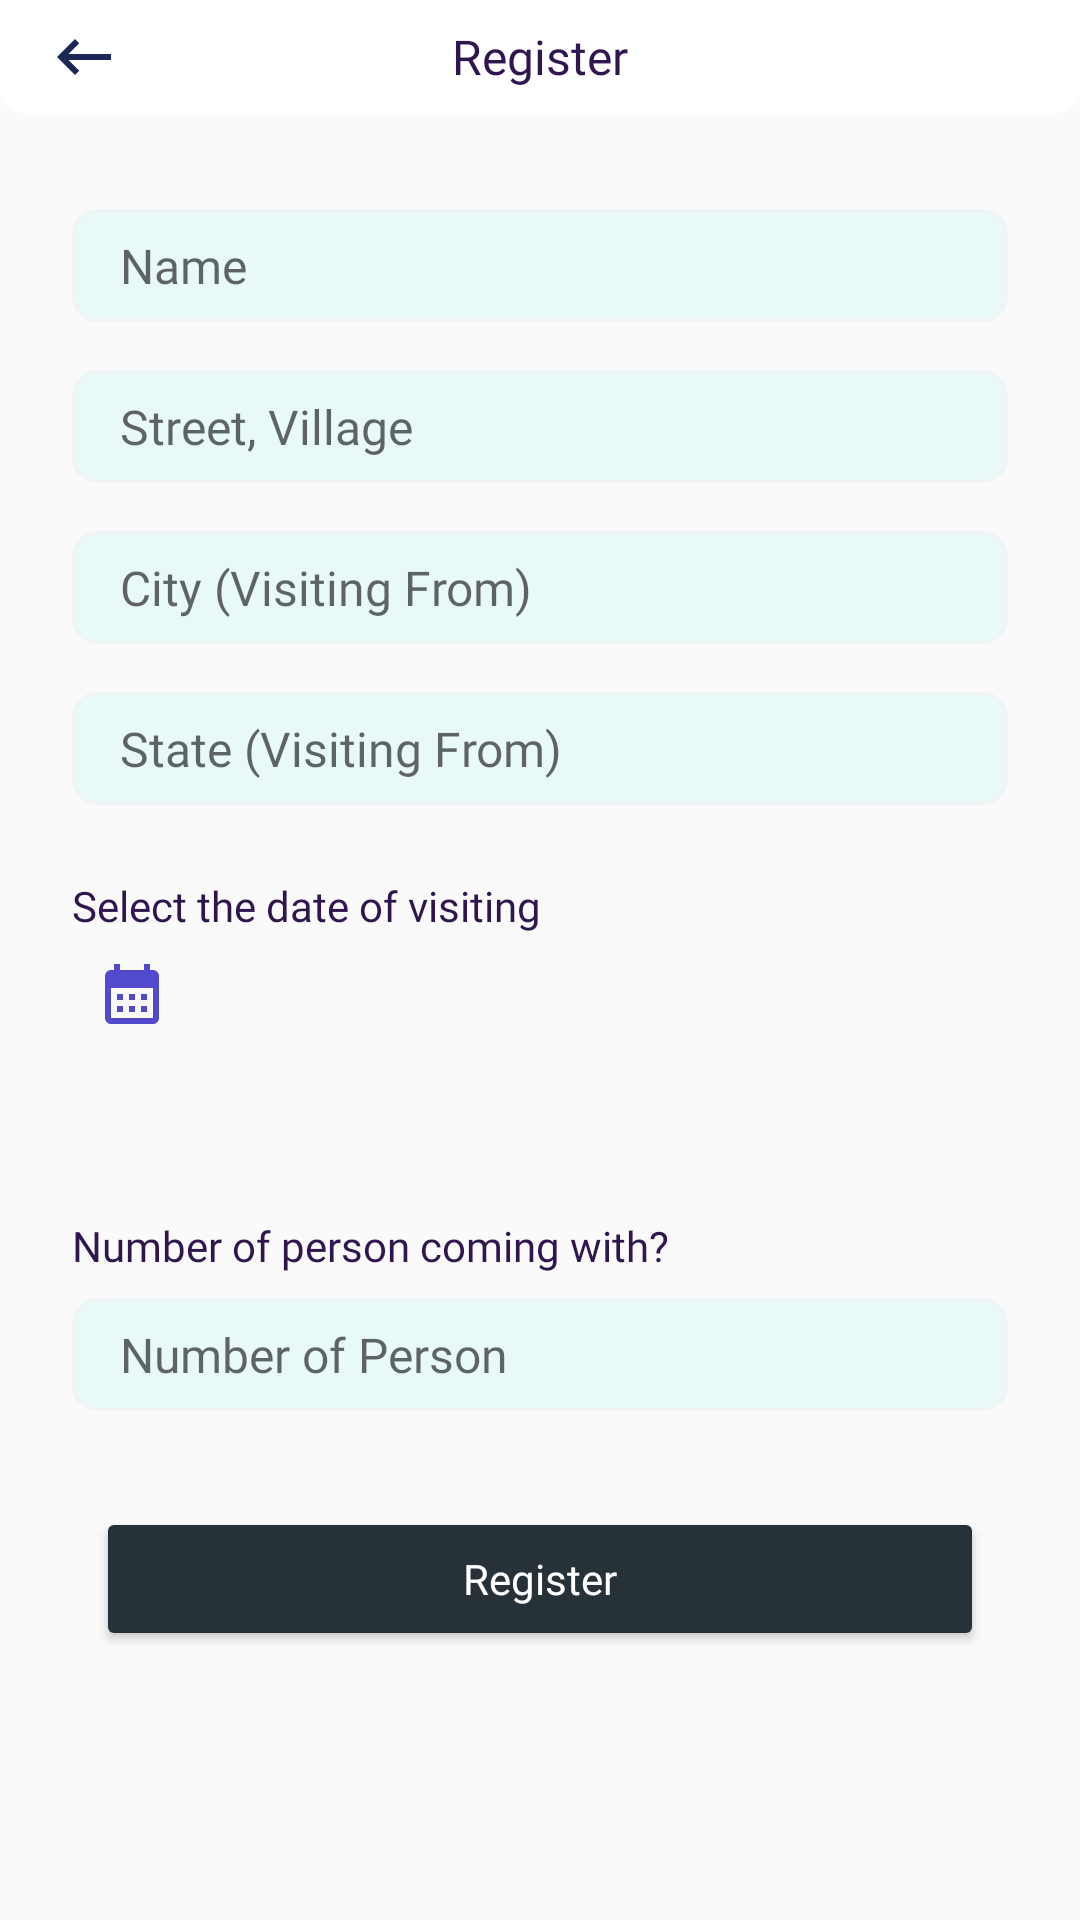

Named icons in this screenshot (1080*1920) and their centers, (x,y):
calendar month: (132,994)
keyboard backspace: (84,57)
